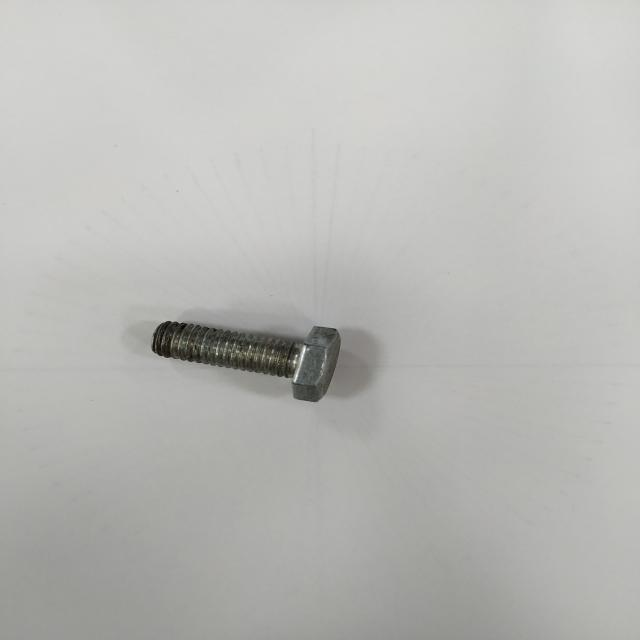Bolt: (152, 321, 340, 402)
